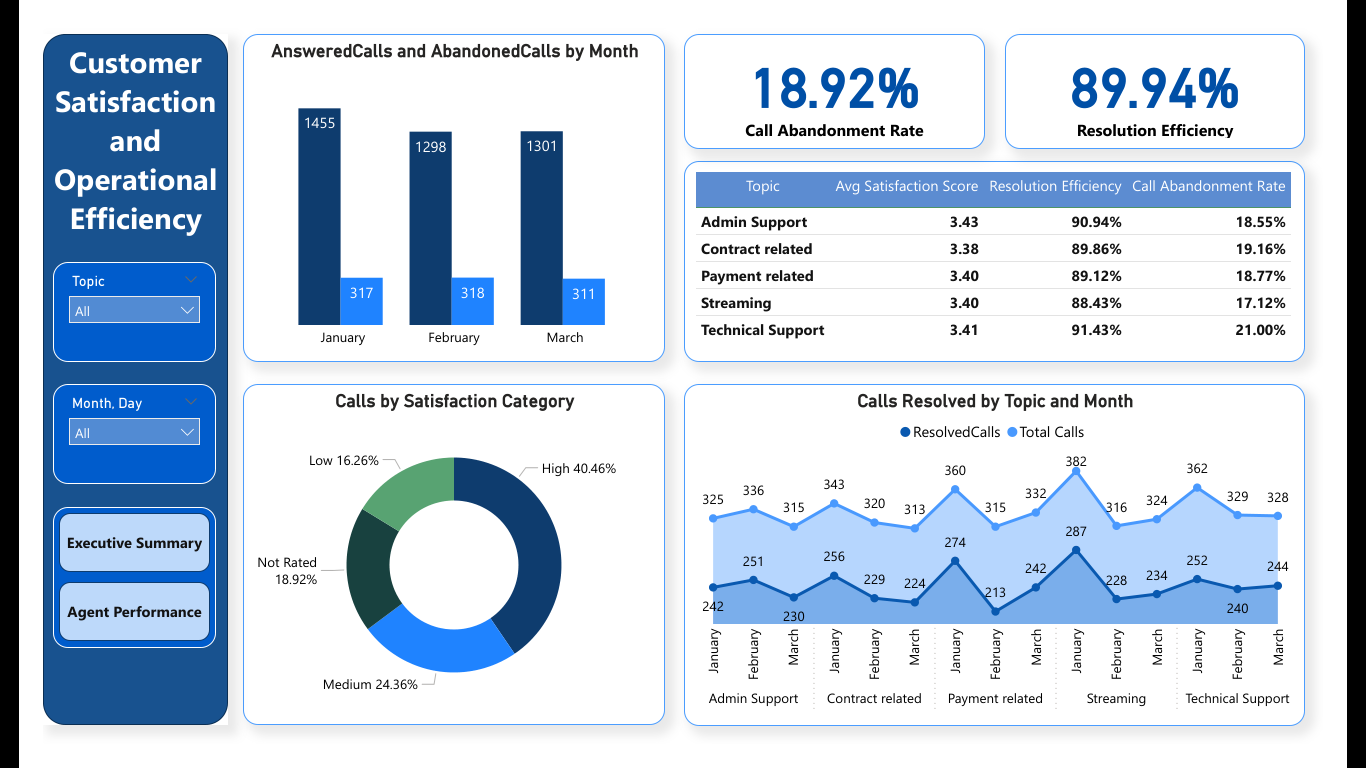

The page's visual inventory and layout, read from the dashboard file:
{"tool":"powerbi","page":{"name":"Operational Efficiency","canvas":[1280,720],"ordinal":1},"visuals":[{"type":"areaChart","title":"Calls Resolved by Topic and Month","fields":{"Category":["CallCentreDataTable.Topic","DatesTable.Date.Variation.Date Hierarchy.Month"],"Y":["MeasuresTable.ResolvedCalls","MeasuresTable.Total Calls"]},"box":[640.7,360,621.6,342.4],"z":0},{"type":"donutChart","title":"Calls by Satisfaction Category","fields":{"Category":["CallCentreDataTable.Satisfaction Category"],"Y":["MeasuresTable.Total Calls"]},"box":[199.8,360,421.7,340.9],"z":1000},{"type":"tableEx","fields":{"Values":["CallCentreDataTable.Topic","Avg(CallCentreDataTable.Satisfaction rating)","MeasuresTable.ResolutionEfficiency","MeasuresTable.CallAbandonmentRate"]},"box":[640.7,136.7,621.6,201.3],"z":2000},{"type":"clusteredColumnChart","fields":{"Category":["DatesTable.Date.Variation.Date Hierarchy.Month","DatesTable.Date.Variation.Date Hierarchy.Day"],"Y":["MeasuresTable.AnsweredCalls","MeasuresTable.AbandonedCalls"]},"box":[199.8,10.3,421.7,327.7],"z":3000},{"type":"card","fields":{"Values":["MeasuresTable.CallAbandonmentRate"]},"box":[640.7,10.3,301.2,114.6],"z":4000},{"type":"card","fields":{"Values":["MeasuresTable.Resolution Efficiency"]},"box":[962.4,10.3,299.8,114.6],"z":5000},{"type":"shape","box":[0,10.3,185.1,690.6],"z":6000},{"type":"slicer","fields":{"Values":["CallCentreDataTable.Topic"]},"box":[10.3,238,163.1,99.9],"z":6501},{"type":"pageNavigator","box":[10.3,483.4,163.1,141.1],"z":8003},{"type":"slicer","fields":{"Values":["DatesTable.Date.Variation.Date Hierarchy.Month","DatesTable.Date.Variation.Date Hierarchy.Day"]},"box":[10.3,360,163.1,99.9],"z":9003}]}

Visuals, with their boxes in screenshot pixels (x1, y1, x2, y2), scaled from the page's 1280x720 canvas onto the 1366x768 screenshot:
"Calls Resolved by Topic and Month" areaChart: pyautogui.locateOnScreen(684, 384, 1347, 749)
"Calls by Satisfaction Category" donutChart: pyautogui.locateOnScreen(213, 384, 663, 748)
tableEx - CallCentreDataTable.Topic x Avg(CallCentreDataTable.Satisfaction rating): pyautogui.locateOnScreen(684, 146, 1347, 361)
clusteredColumnChart - DatesTable.Date.Variation.Date Hierarchy.Month x DatesTable.Date.Variation.Date Hierarchy.Day: pyautogui.locateOnScreen(213, 11, 663, 361)
card - MeasuresTable.CallAbandonmentRate: pyautogui.locateOnScreen(684, 11, 1005, 133)
card - MeasuresTable.Resolution Efficiency: pyautogui.locateOnScreen(1027, 11, 1347, 133)
shape: pyautogui.locateOnScreen(0, 11, 198, 748)
slicer - CallCentreDataTable.Topic: pyautogui.locateOnScreen(11, 254, 185, 360)
pageNavigator: pyautogui.locateOnScreen(11, 516, 185, 666)
slicer - DatesTable.Date.Variation.Date Hierarchy.Month x DatesTable.Date.Variation.Date Hierarchy.Day: pyautogui.locateOnScreen(11, 384, 185, 491)
